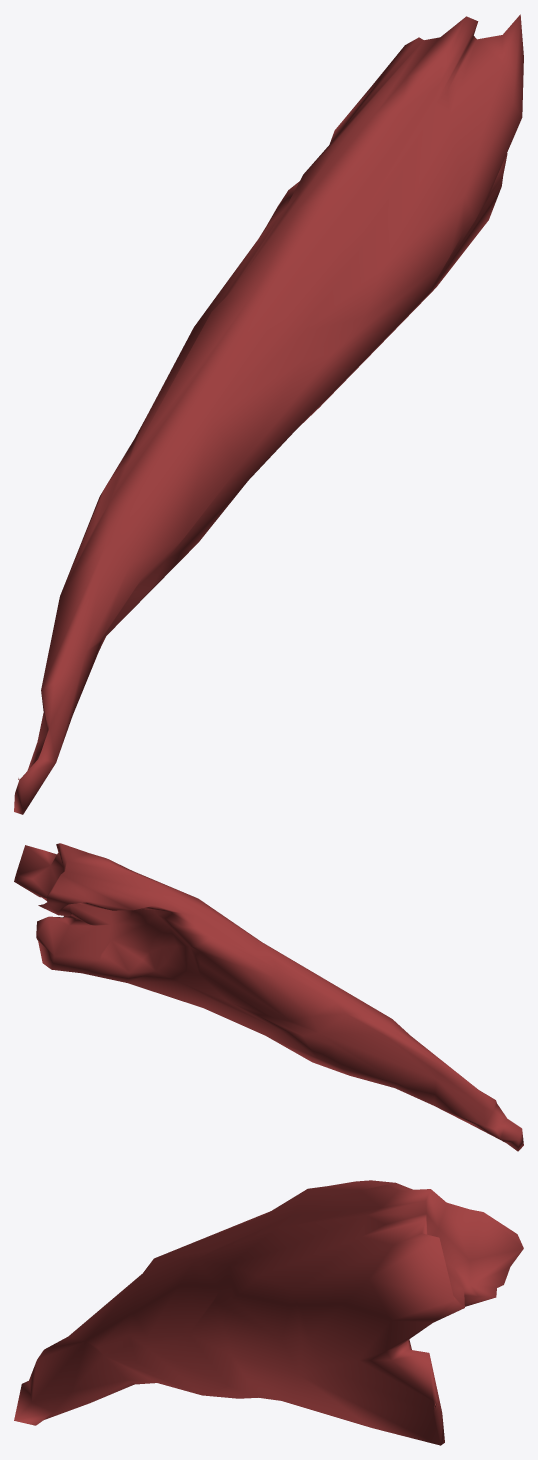
Rendered from oblique-head-of-adductor-pollicis-r.glb.
3 views of the same model, one above another, from view 1: azimuth 30°, elevation 25°; view 2: azimuth 150°, elevation 25°; view 3: azimuth 270°, elevation 25° (orthographic). The views are drawn at different scales.
Parts seen in each view (by area): view 1: Oblique head of adductor pollicis.r; view 2: Oblique head of adductor pollicis.r; view 3: Oblique head of adductor pollicis.r.
Boxes of the visible parts, x1,y1,x2,y2 form: Oblique head of adductor pollicis.r: (14,14,523,814); Oblique head of adductor pollicis.r: (14,843,523,1151); Oblique head of adductor pollicis.r: (14,1180,523,1445).
Bounding box in the file's own units: 0.044 × 0.0311 × 0.0247.
